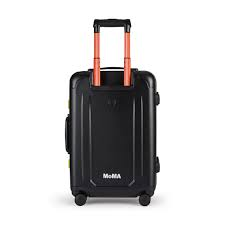suitcase: (63, 16, 162, 208)
